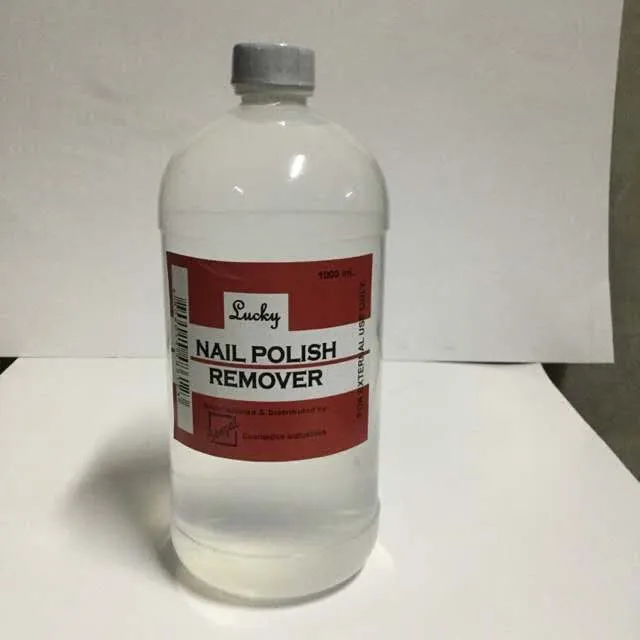toxic_waste: (184, 43, 380, 588)
